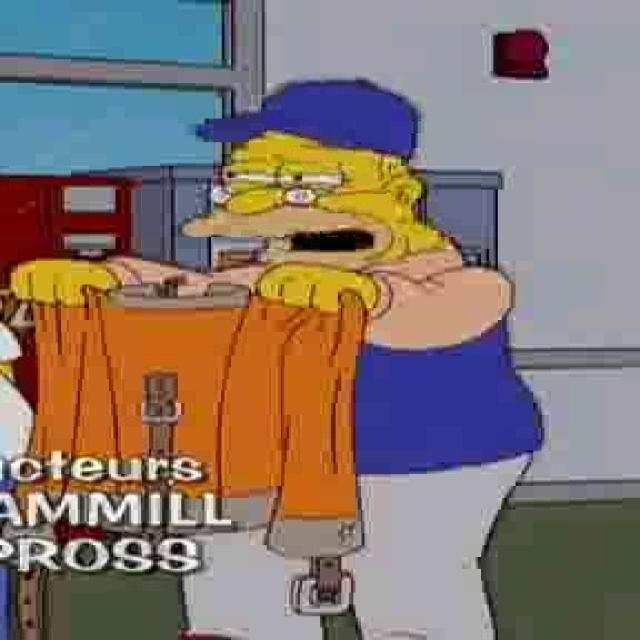Abraham Grampa Simpson: (166, 127, 464, 267)
